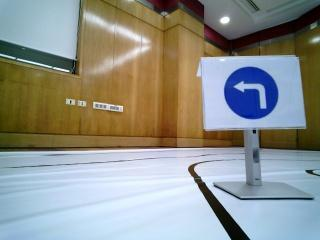left: (199, 61, 300, 127)
